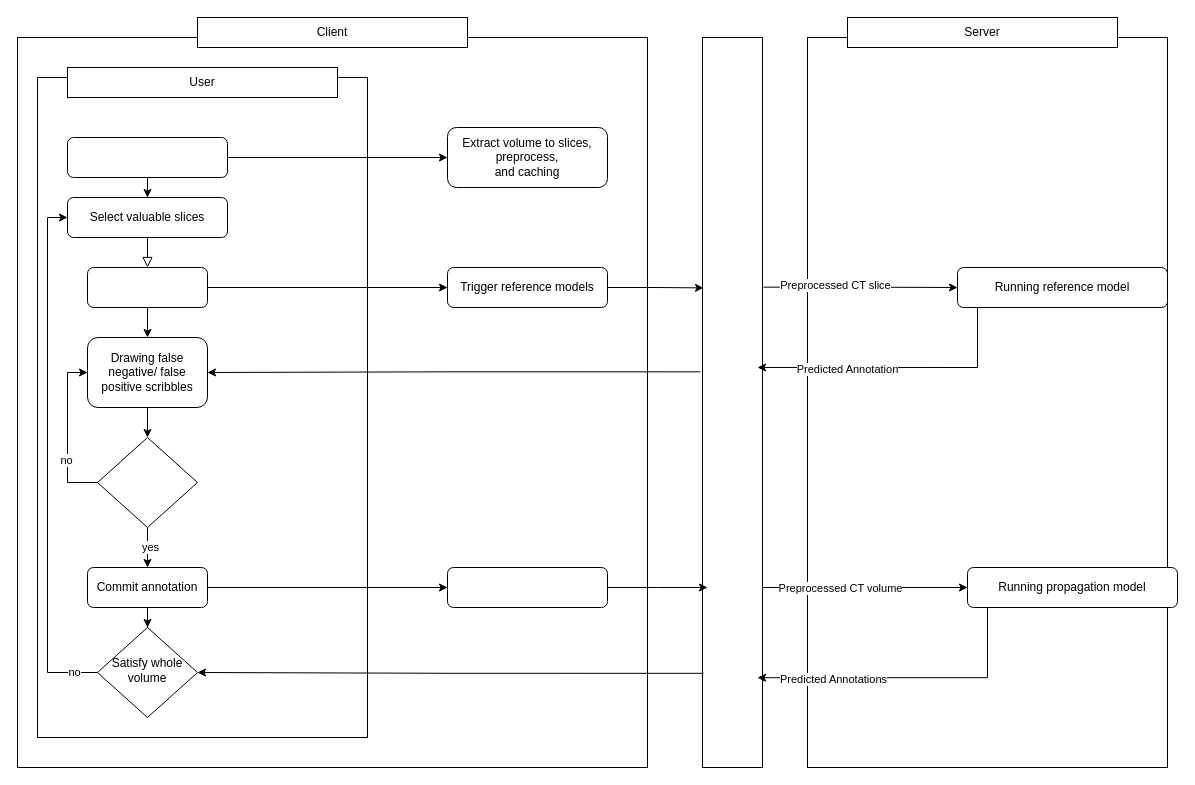
Image size: 1195x785. Some labels were removed from this diagram. Here are the shapes that lost their labels. From the top down, the centre of each, then its label:
At point 147,157: "Init CT volume".
At point 147,287: "Request annotation".
At point 732,402: "PROXY".
At point 147,482: "Satisfy this slice".
At point 527,587: "Trigger propagation model".
